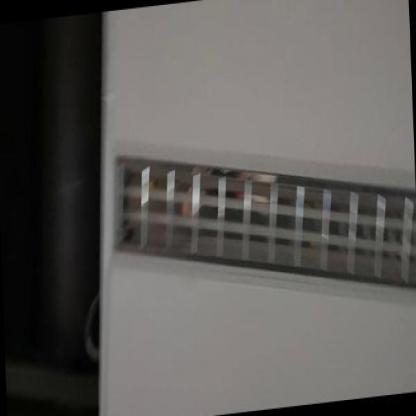light_off: (99, 100, 415, 342)
